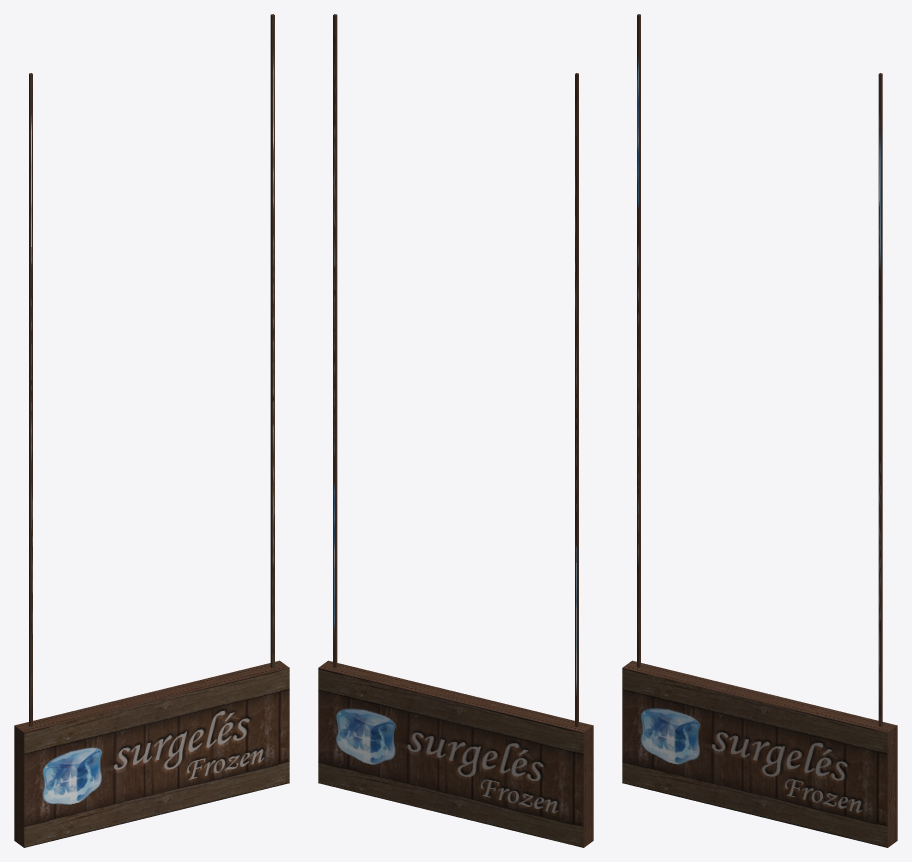
File: SM_Signs_05.FBX
The picture shows the model from 3 angles, left to right: view 1: azimuth 30°, elevation 25°; view 2: azimuth 150°, elevation 25°; view 3: azimuth 330°, elevation 25°; orthographic projection.
Parts seen in each view (by area): view 1: SM_Signs_05; view 2: SM_Signs_05; view 3: SM_Signs_05.
Part boxes in pixels (x1=…): SM_Signs_05: x1=14, y1=14, x2=289, y2=847; SM_Signs_05: x1=318, y1=14, x2=593, y2=847; SM_Signs_05: x1=622, y1=14, x2=897, y2=847.
Size of the model in its own units: 83.45 by 230 by 5.42.
